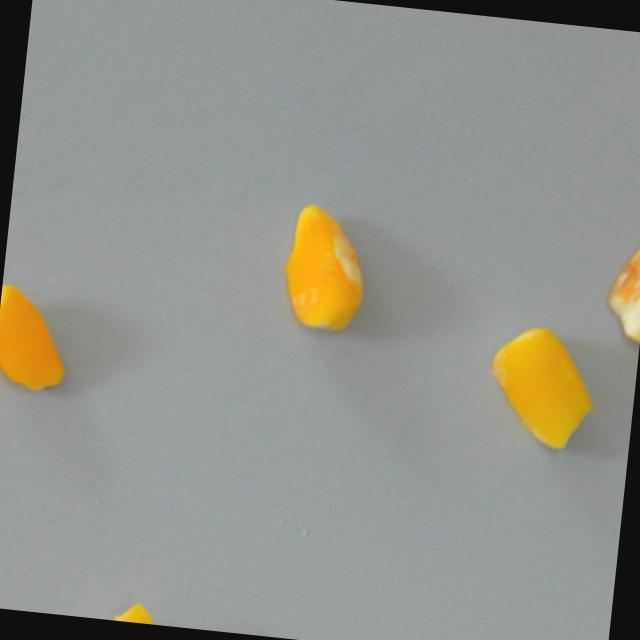dañado: (598, 214, 640, 351)
estandar: (480, 322, 596, 453), (0, 278, 80, 397)
pelicula: (271, 205, 379, 337)
punto_negro: (97, 600, 198, 629)
